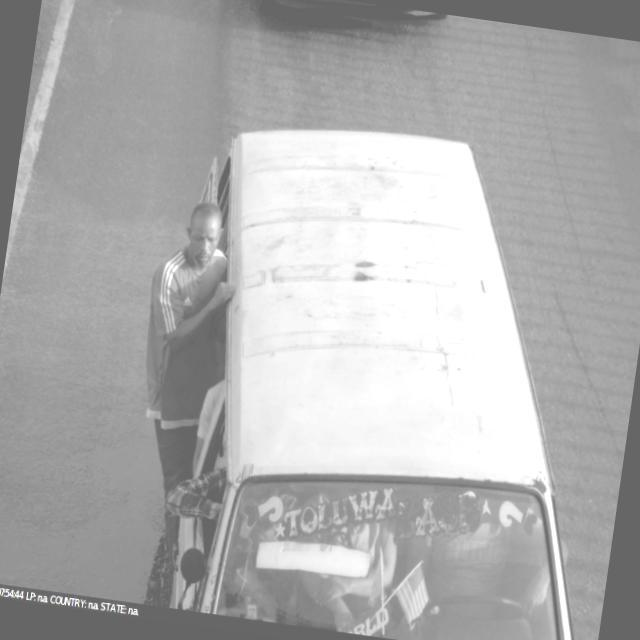windshield: (203, 459, 574, 640)
